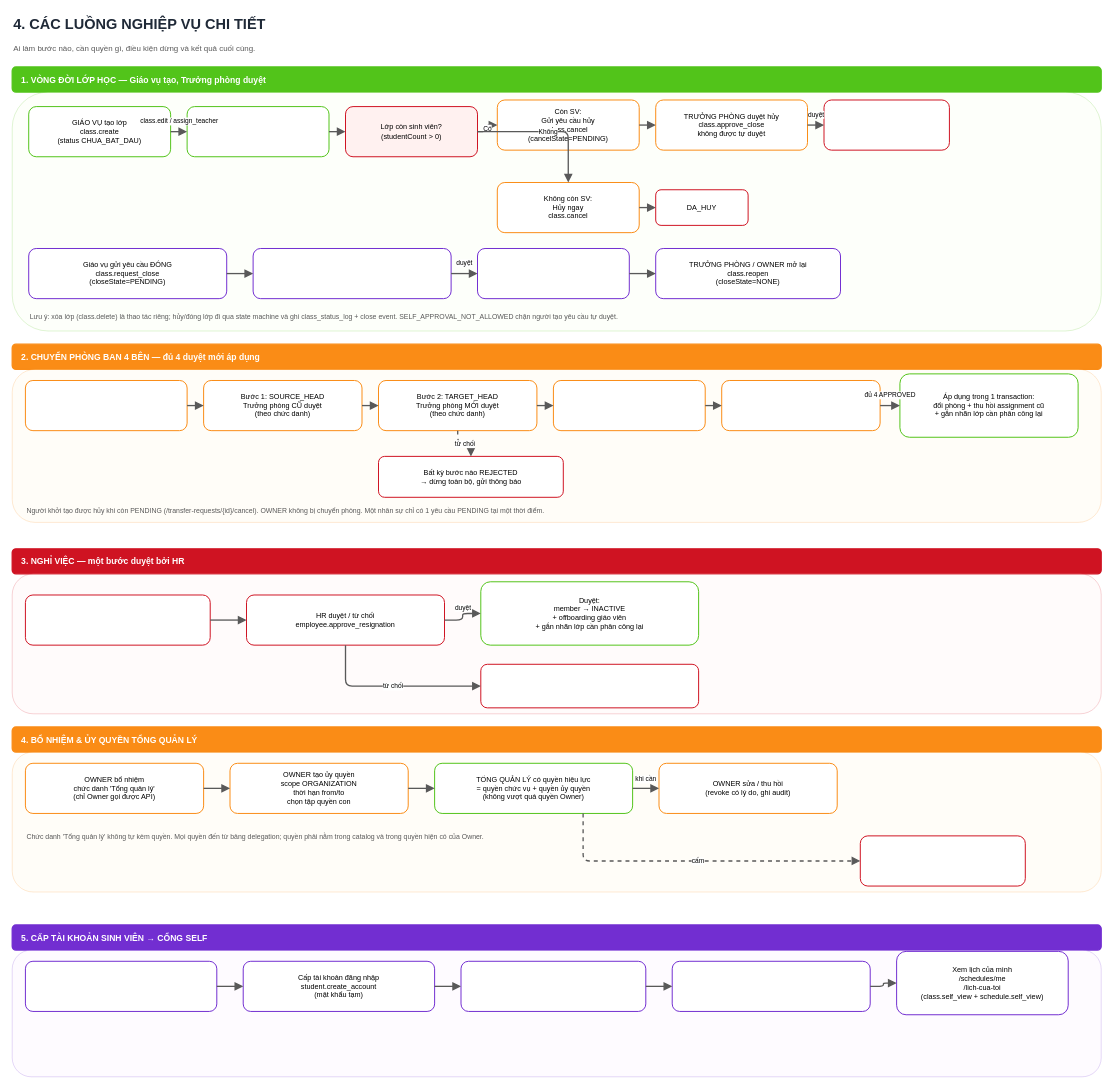
The diagram is 1113 pixels wide and 1088 high, and some of its shapes have lost their labels. The centre of each missing label's shape, as x and y in pixels:
Bước 3: HR duyệt employee.approve_transfer: pixel 629 405
Bước 4: EMPLOYEE duyệt chính người được chuyển (xác nhận đồng ý): pixel 800 405
closeState=CLOSED status=DA_KET_THUC: pixel 553 273
Cập nhật lớp class.edit đổi trạng thái theo thời gian: pixel 257 131
DA_HUY Lý do + lịch sử sự kiện: pixel 886 124
GIÁO VỤ tạo hồ sơ sinh viên student.create: pixel 121 986
HR / người có quyền tạo employee.transfer cần Trưởng phòng 2 bên tồn tại: pixel 106 405
HR tạo yêu cầu nghỉ việc employee.resign (trong phòng ban): pixel 117 619
SINH VIÊN đăng nhập → /hoc-sinh (student.self_view): pixel 553 986
TRƯỞNG PHÒNG duyệt đóng class.approve_close hoặc từ chối + lý do: pixel 351 273
Tổng quản lý KHÔNG được ủy quyền lại cho người khác: pixel 943 860
Từ chối: giữ nguyên trạng thái + lý do: pixel 589 685
Xem hồ sơ + lớp của mình /students/me /students/me/classes: pixel 770 986
